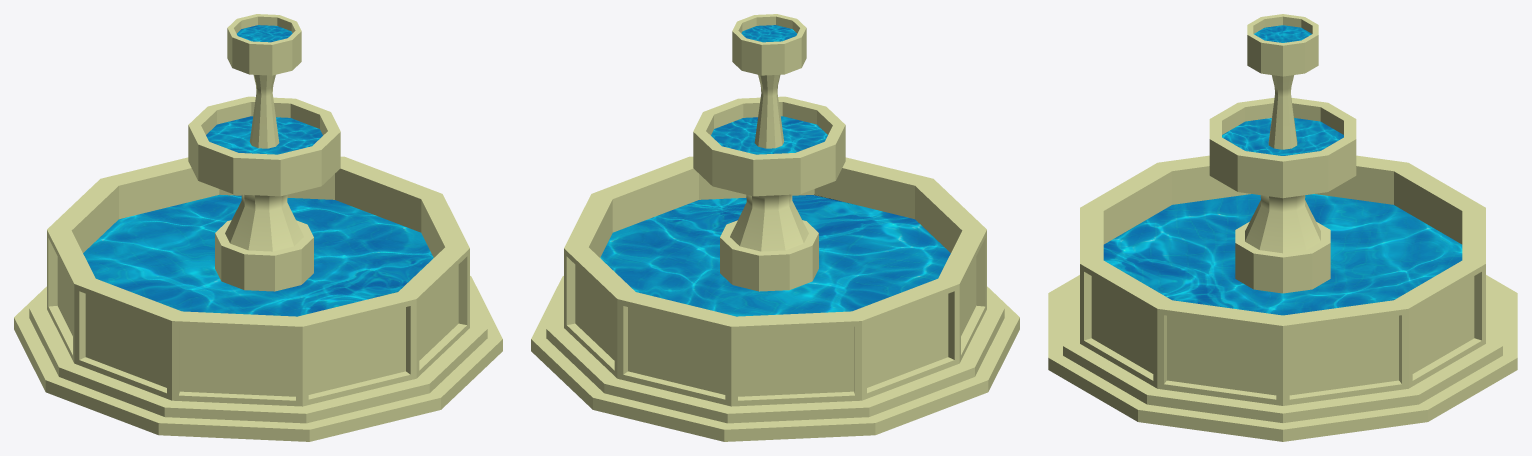
Rendered from Fountain V2.fbx.
3 renders of one model, left to right at view 1: azimuth 30°, elevation 25°; view 2: azimuth 150°, elevation 25°; view 3: azimuth 270°, elevation 25°, orthographic.
Visible parts, largest first — view 1: Fountain1; view 2: Fountain1; view 3: Fountain1.
Part boxes in pixels (box(x1,y1,x2,y2)): Fountain1: box(14, 14, 502, 441); Fountain1: box(531, 14, 1019, 441); Fountain1: box(1048, 14, 1517, 441).
Bounding box in the file's own units: 57.46 × 39.91 × 54.64.
Materials: 2 (1 with a texture image).
